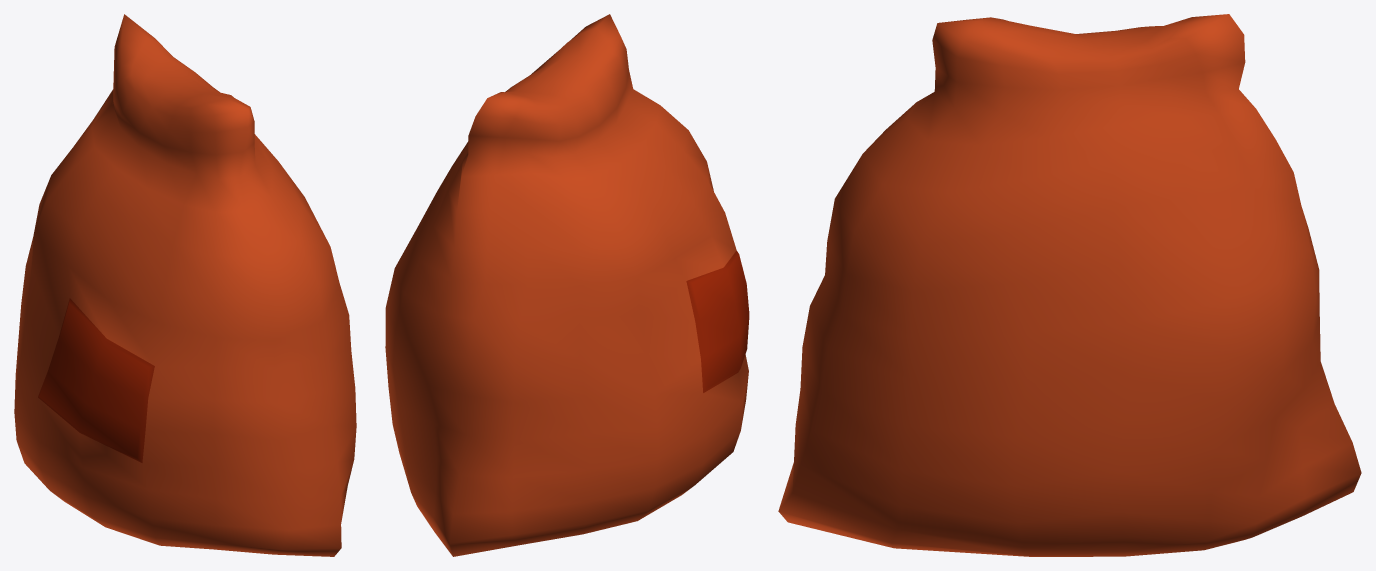
File: winter_castle_item7.glb
The picture shows the model from 3 angles, left to right: view 1: azimuth 30°, elevation 25°; view 2: azimuth 150°, elevation 25°; view 3: azimuth 270°, elevation 25°; orthographic projection. The views are drawn at different scales.
Parts seen in each view (by area): view 1: Item7_Medieval_0; view 2: Item7_Medieval_0; view 3: Item7_Medieval_0.
Part boxes in pixels (box(x1,y1,x2,y2)): Item7_Medieval_0: box(14, 14, 356, 556); Item7_Medieval_0: box(385, 14, 749, 556); Item7_Medieval_0: box(778, 14, 1361, 556).
Size of the model in its own units: 0.2776 by 0.3955 by 0.4204.
Materials: 1 (1 with a texture image).
